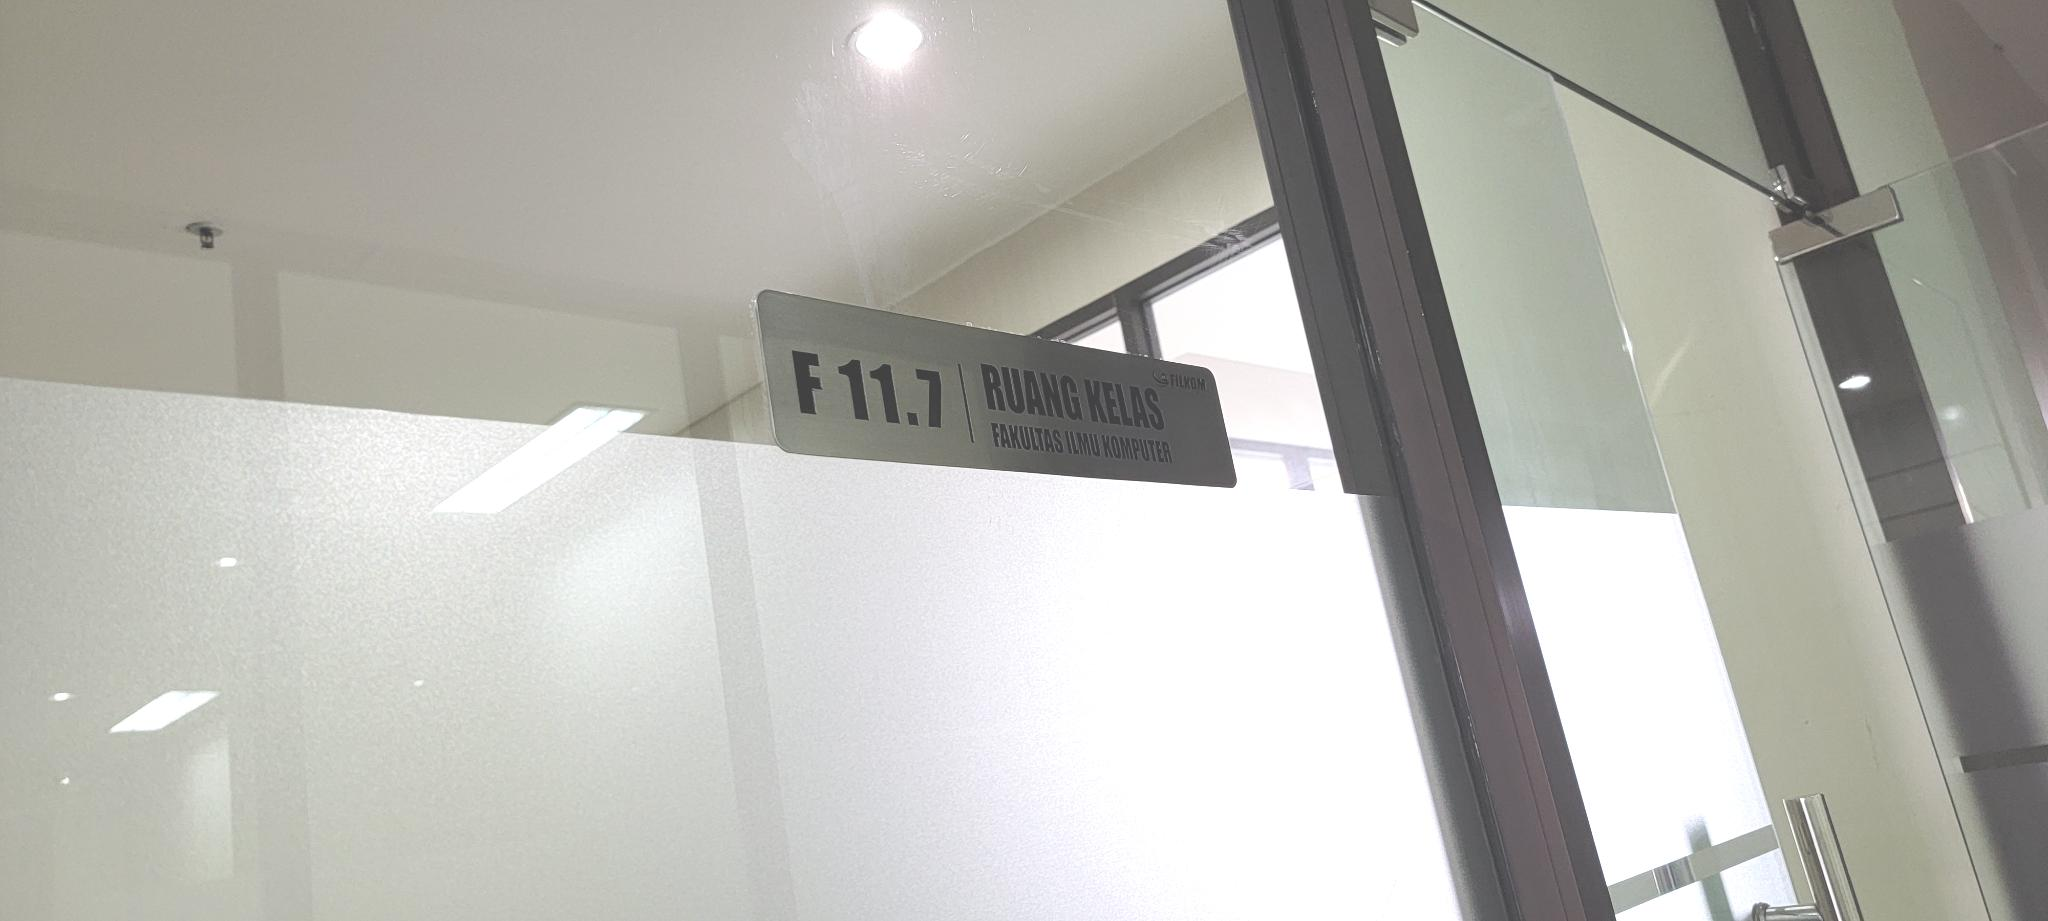plate: (754, 286, 1237, 489)
